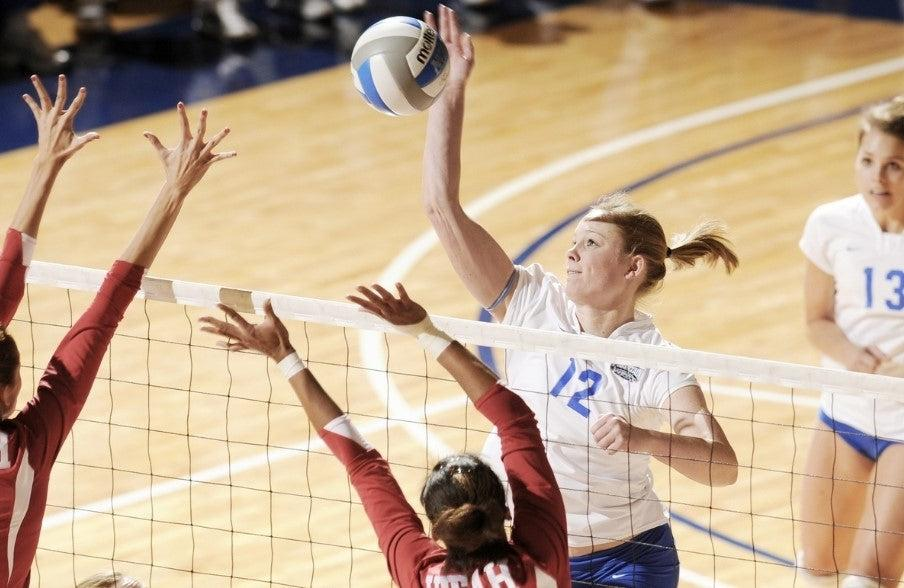ballon_volley: (350, 15, 451, 118)
